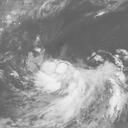cyclone: (33, 56, 85, 103)
